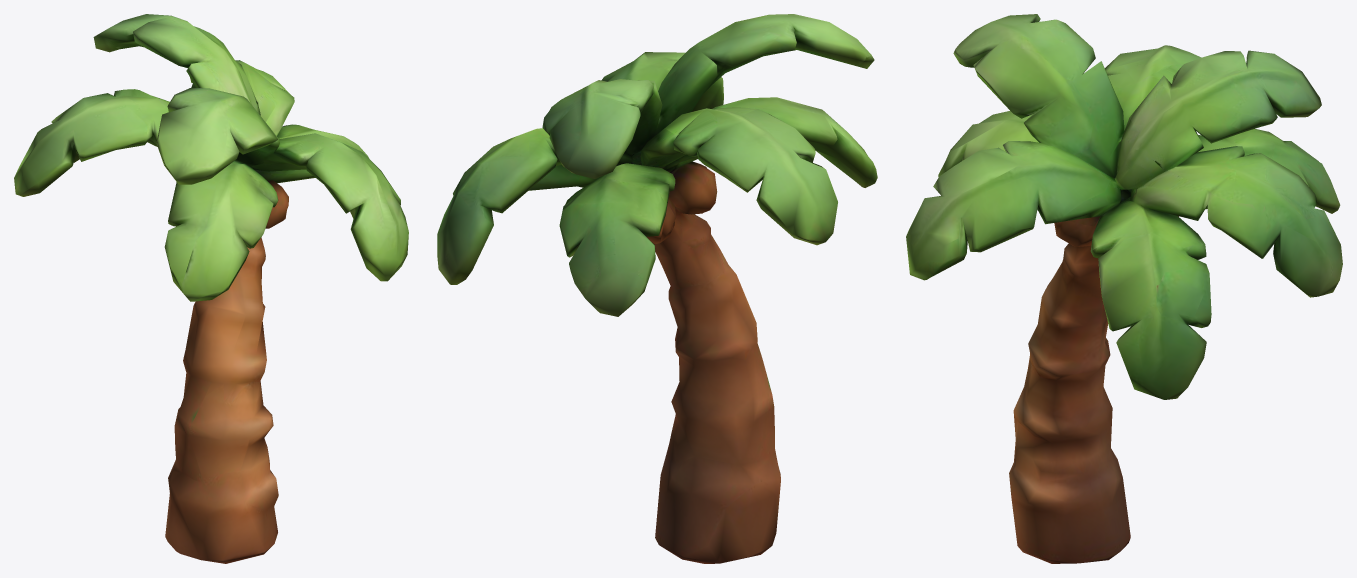
File: palm_l2.glb
The picture shows the model from 3 angles, left to right: view 1: azimuth 30°, elevation 25°; view 2: azimuth 150°, elevation 25°; view 3: azimuth 270°, elevation 25°; orthographic projection. The views are drawn at different scales.
Parts seen in each view (by area): view 1: tripo_node_2e10e8a2-3fec-4771-bced-0935fc4a648e; view 2: tripo_node_2e10e8a2-3fec-4771-bced-0935fc4a648e; view 3: tripo_node_2e10e8a2-3fec-4771-bced-0935fc4a648e.
Part boxes in pixels (left/top/right/bottom): tripo_node_2e10e8a2-3fec-4771-bced-0935fc4a648e: left=14, top=14, right=408, bottom=563; tripo_node_2e10e8a2-3fec-4771-bced-0935fc4a648e: left=437, top=14, right=877, bottom=563; tripo_node_2e10e8a2-3fec-4771-bced-0935fc4a648e: left=906, top=14, right=1342, bottom=563.
Bounding box in the file's own units: 0.7765 × 0.9777 × 0.7767.
Materials: 1 (1 with a texture image).
